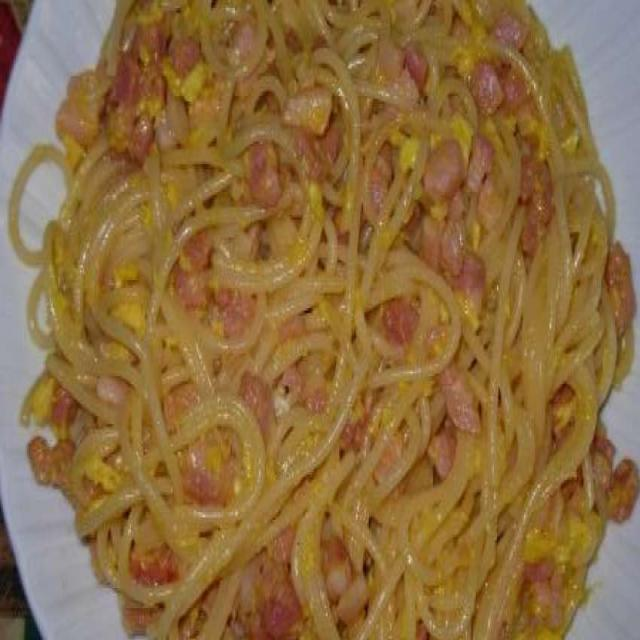Pasta with carbonara sauce: (49, 8, 616, 620)
